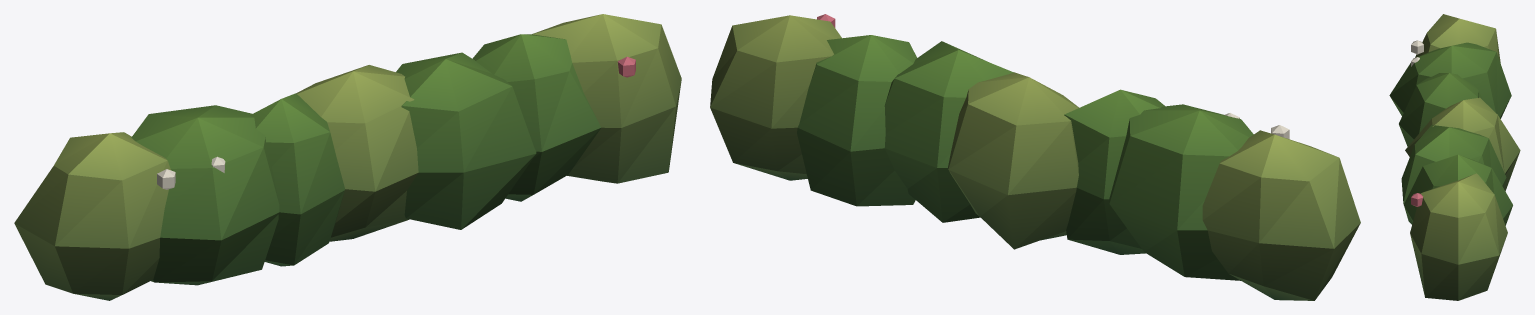
File: scene_hedge_3.glb
3 views of the same model, side by side, from view 1: azimuth 30°, elevation 25°; view 2: azimuth 150°, elevation 25°; view 3: azimuth 270°, elevation 25° (orthographic). The views are drawn at different scales.
Parts seen in each view (by area): view 1: scene_hedge_3; view 2: scene_hedge_3; view 3: scene_hedge_3.
Boxes of the visible parts, x1,y1,x2,y2 form: scene_hedge_3: (14,14,681,300); scene_hedge_3: (710,14,1360,300); scene_hedge_3: (1389,14,1520,300).
Bounding box in the file's own units: 4.52 × 1.12 × 1.16.
